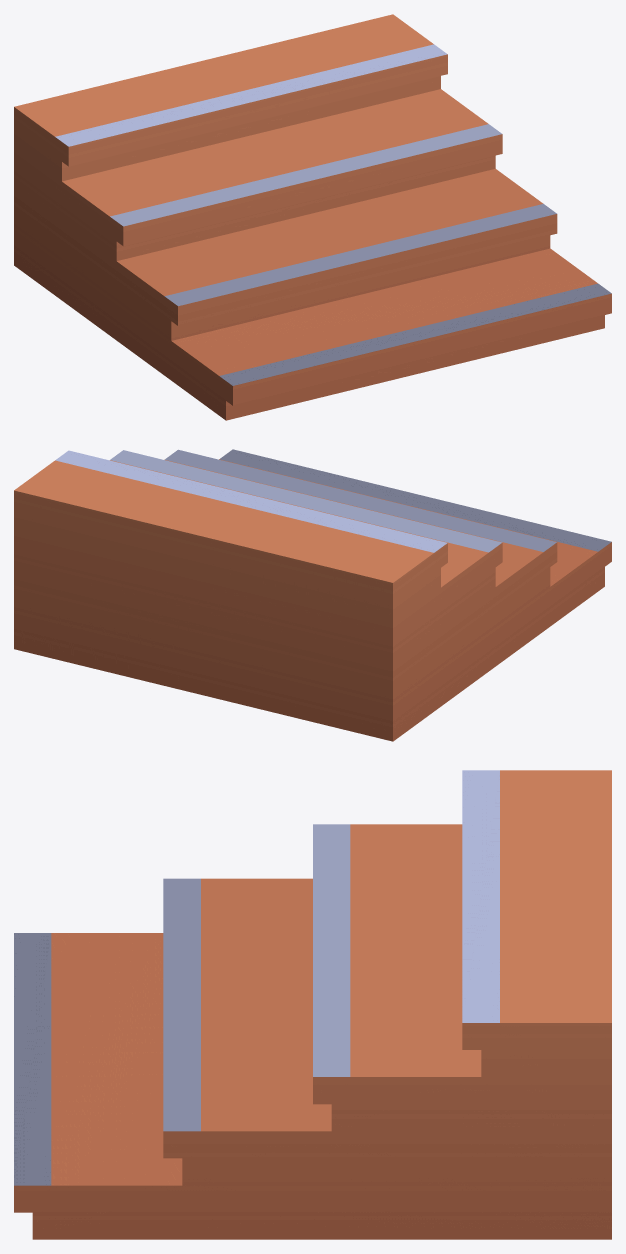
The model's file is skt-steps.glb.
The picture shows the model from 3 angles, top to bottom: view 1: azimuth 30°, elevation 25°; view 2: azimuth 150°, elevation 25°; view 3: azimuth 270°, elevation 25°; orthographic projection. The views are drawn at different scales.
Visible parts, largest first — view 1: steps; view 2: steps; view 3: steps.
Part boxes in pixels (x1,y1,x2,y2): steps: (14,14,611,420); steps: (14,449,611,741); steps: (14,770,611,1239).
Bounding box in the file's own units: 1 × 0.4 × 1.
Materials: 1 (1 with a texture image).
